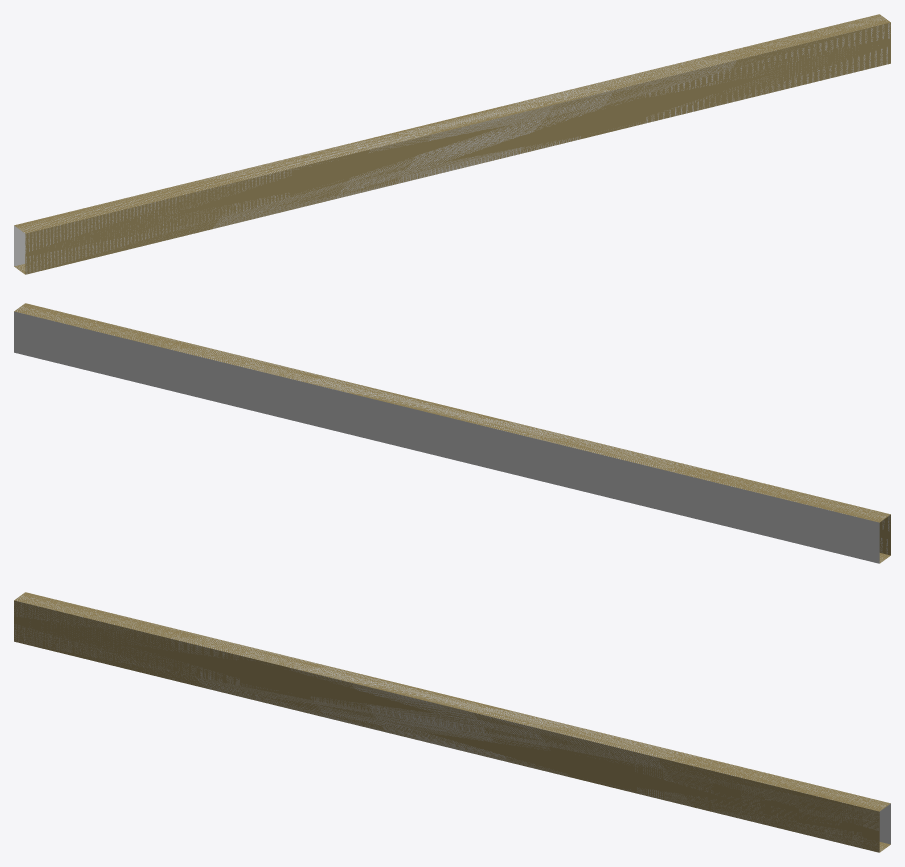
The model's file is original-5.obj.
3 views of the same model, one above another, from view 1: azimuth 30°, elevation 25°; view 2: azimuth 150°, elevation 25°; view 3: azimuth 330°, elevation 25° (orthographic).
Parts seen in each view (by area): view 1: FR_6_2/FR_6/mesh2/mesh2-geometry#mesh2-geometry; view 2: FR_6_2/FR_6/mesh2/mesh2-geometry#mesh2-geometry; view 3: FR_6_2/FR_6/mesh2/mesh2-geometry#mesh2-geometry.
Part boxes in pixels (bbox=[...]): FR_6_2/FR_6/mesh2/mesh2-geometry#mesh2-geometry: bbox=[14, 14, 890, 274]; FR_6_2/FR_6/mesh2/mesh2-geometry#mesh2-geometry: bbox=[14, 303, 890, 563]; FR_6_2/FR_6/mesh2/mesh2-geometry#mesh2-geometry: bbox=[14, 592, 890, 852].
Size of the model in its own units: 1.2 by 0.0546 by 0.0273.
